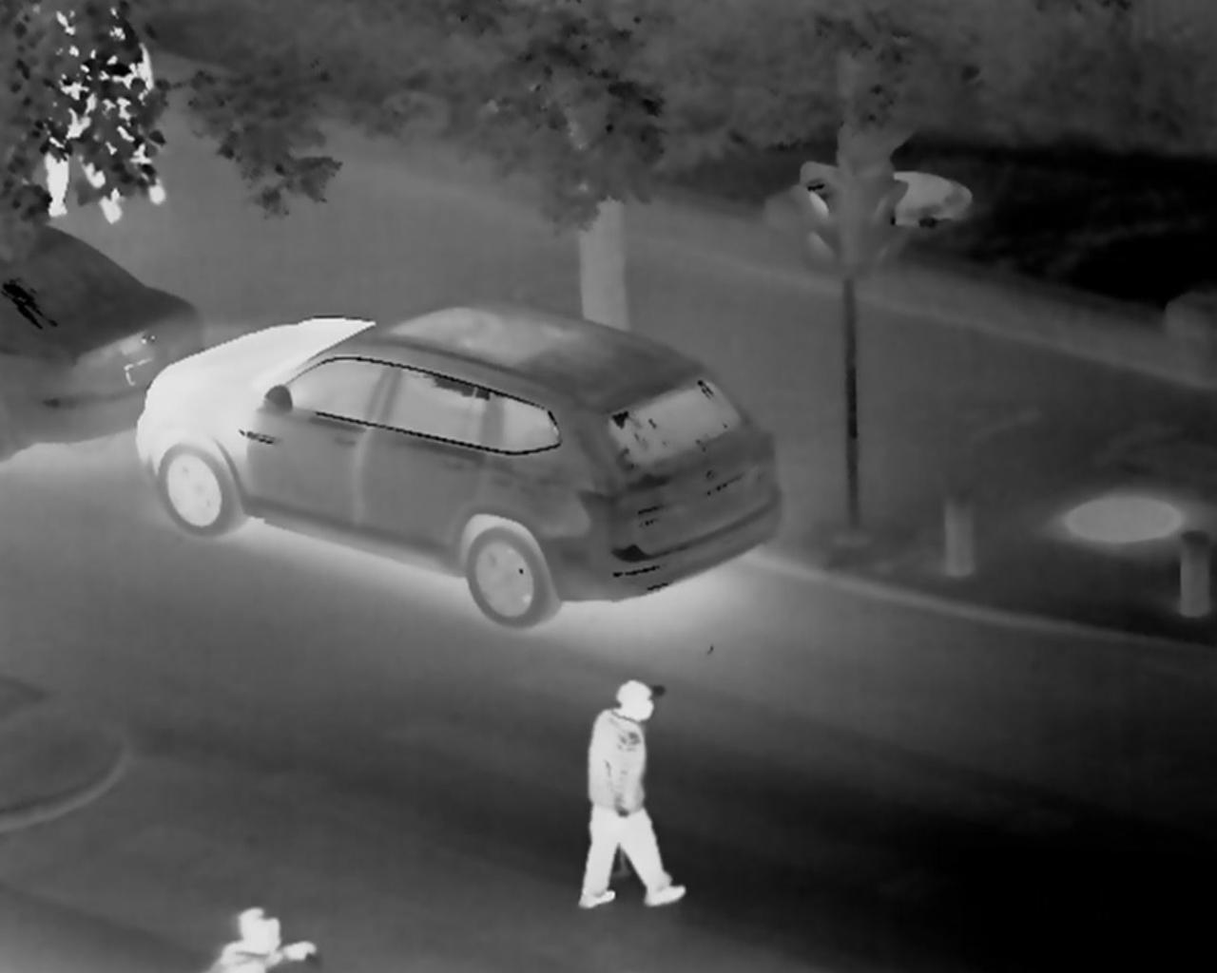person: (585, 664, 687, 916), (104, 2, 172, 192), (46, 15, 99, 197), (199, 913, 326, 973)
